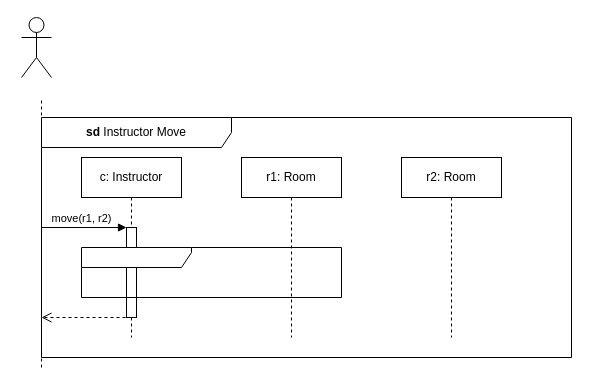
The diagram is 589 pixels wide and 386 high, and some of its shapes have lost their labels. Each missing label, with the centre of its shape:
": Tester" goes at point (36, 47).
"ref Enter Room" goes at point (211, 272).
